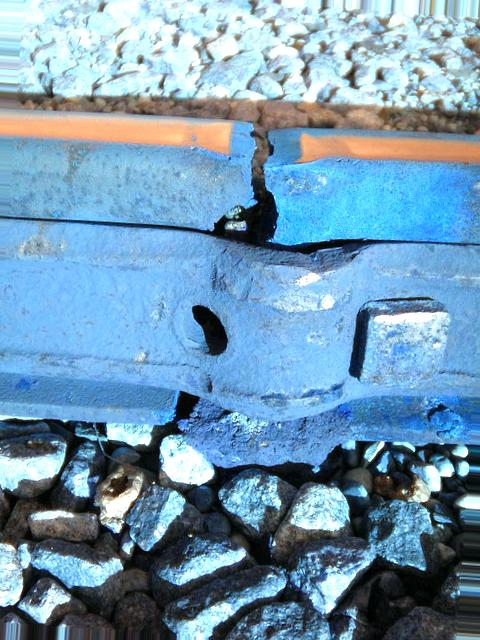tracks_fault: (104, 91, 438, 509)
